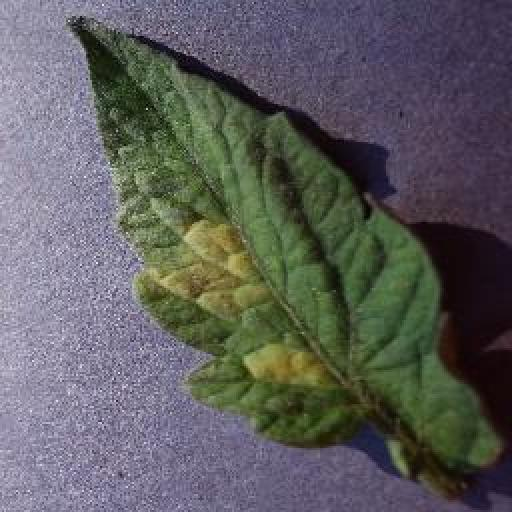Leaf Mold: (64, 16, 506, 473)
